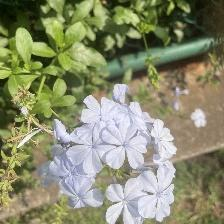chitrak: (94, 123, 152, 172), (140, 164, 177, 221), (72, 125, 114, 175), (103, 177, 145, 224), (57, 175, 104, 209)
